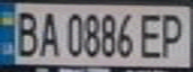0: (63, 8, 84, 59)
6: (115, 9, 139, 58)
8: (81, 9, 103, 58), (100, 9, 121, 58)
A: (36, 7, 60, 58)
B: (9, 7, 42, 57)
E: (136, 9, 166, 60)
P: (157, 9, 190, 58)
